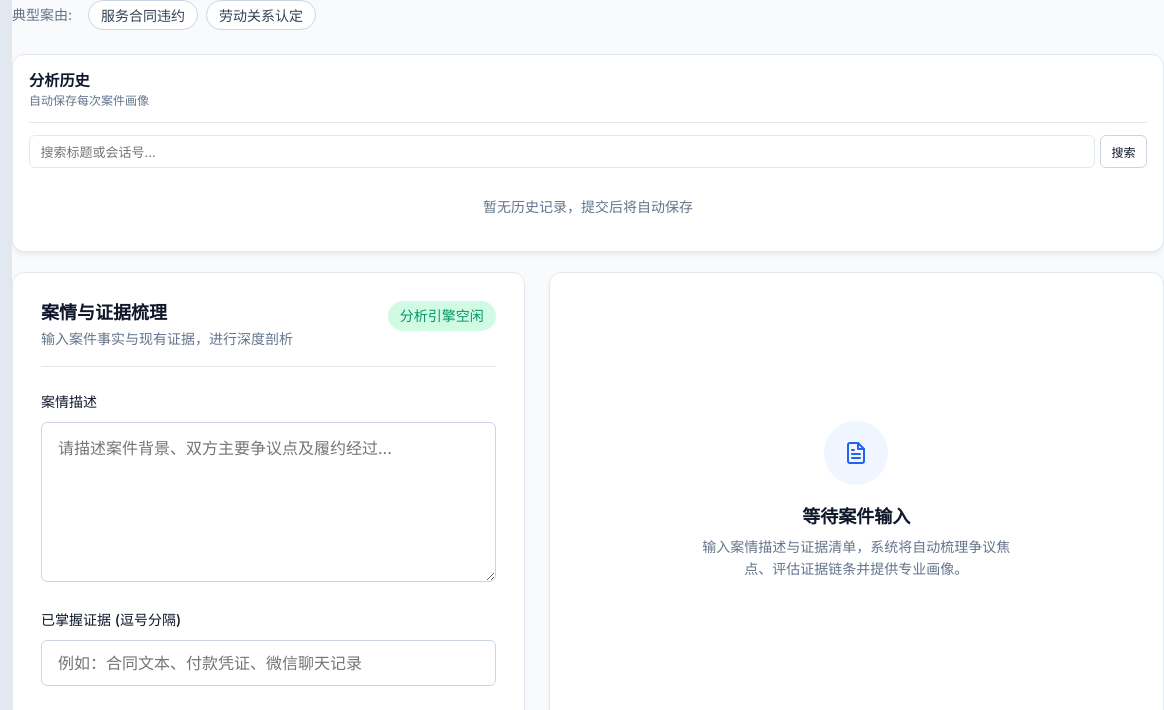
Test: CaseAnalysisView › 填写案情后按钮可用
Type "甲乙双方因合同履约产生争议" into the text box labelled "案情描述".
click(268, 502); type("甲乙双方因合同履约产生争议")  # box 41,422 -> 496,582
(page scrolled)
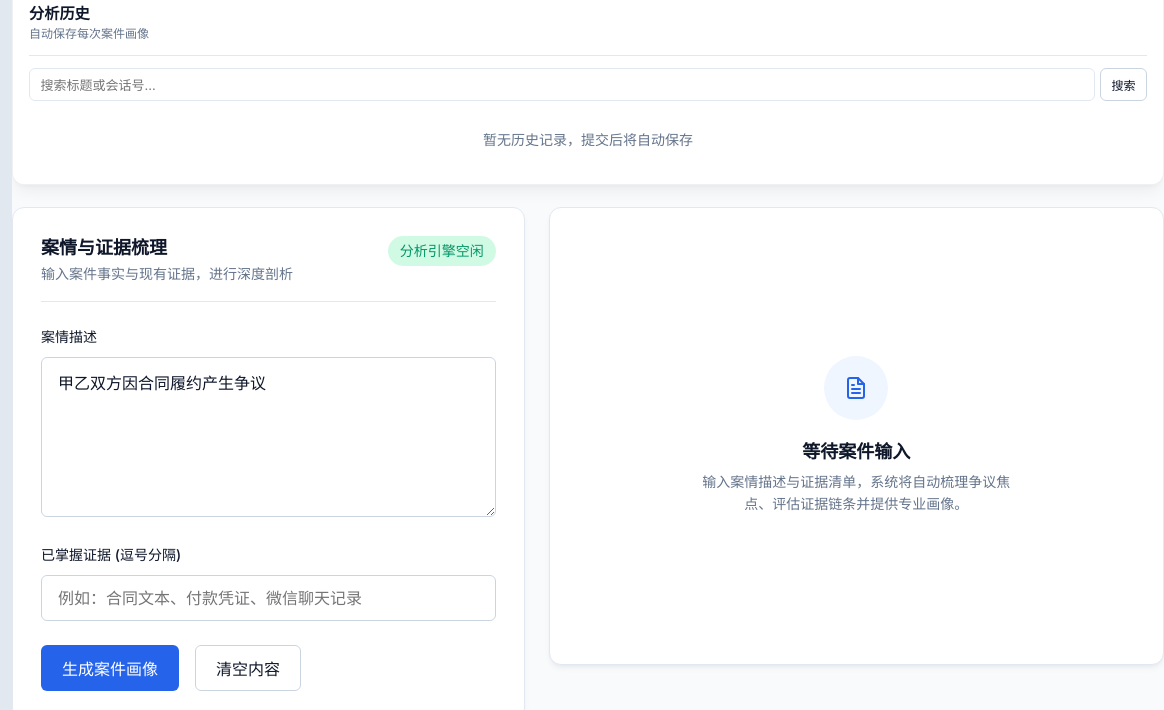
expect the button "生成案件画像" is enabled: met, box 41,645 -> 179,691
